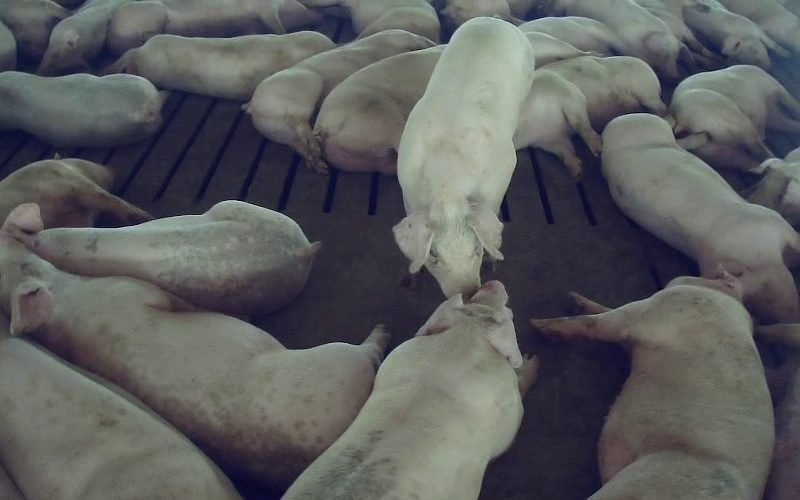pig: (284, 282, 536, 499), (534, 272, 773, 499), (602, 113, 799, 322), (394, 18, 533, 296), (31, 200, 318, 313), (246, 30, 433, 173), (513, 56, 665, 177), (313, 46, 442, 173), (108, 31, 334, 100), (670, 65, 799, 170), (107, 0, 320, 55), (545, 0, 694, 77), (682, 0, 789, 69), (518, 17, 624, 67)
